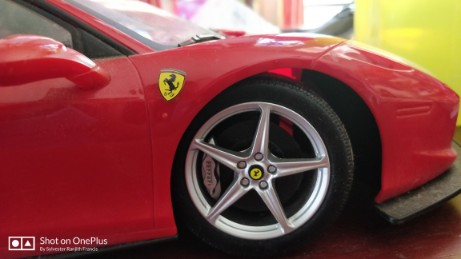unaligned_wheel: (171, 76, 355, 252)
